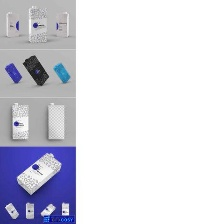carton: (13, 149, 65, 197), (45, 101, 69, 143), (7, 102, 32, 142), (22, 53, 51, 87), (25, 5, 49, 44), (4, 8, 23, 41), (52, 61, 74, 87), (53, 10, 73, 38), (2, 60, 22, 87), (3, 200, 21, 222), (38, 201, 57, 221), (22, 200, 36, 221), (59, 200, 71, 219)
